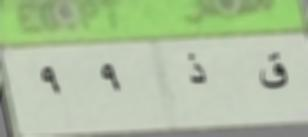9: (90, 58, 135, 103), (34, 63, 71, 103)
qaaf: (254, 40, 293, 97)
zaal: (178, 47, 215, 90)
